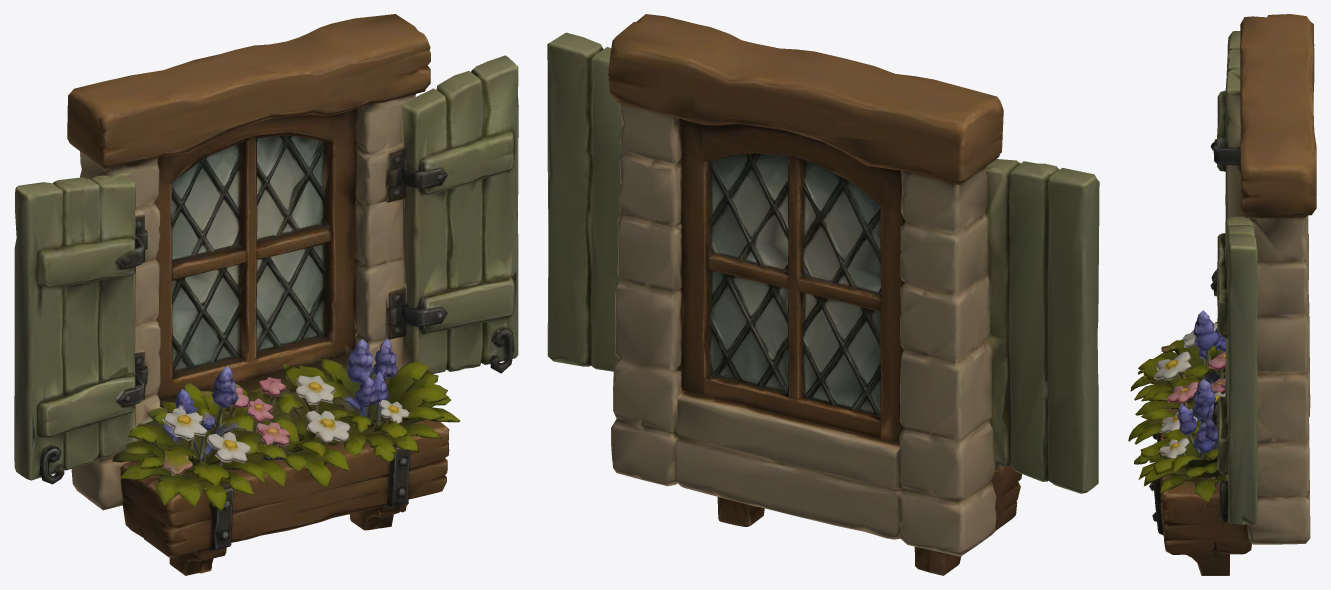
The model's file is mod_win_f.glb.
The picture shows the model from 3 angles, left to right: view 1: azimuth 30°, elevation 25°; view 2: azimuth 150°, elevation 25°; view 3: azimuth 270°, elevation 25°; orthographic projection. The views are drawn at different scales.
Visible parts, largest first — view 1: tripo_node_ed51ddac-e969-4782-837f-66e8b0e133ff; view 2: tripo_node_ed51ddac-e969-4782-837f-66e8b0e133ff; view 3: tripo_node_ed51ddac-e969-4782-837f-66e8b0e133ff.
Boxes of the visible parts, x1,y1,x2,y2 form: tripo_node_ed51ddac-e969-4782-837f-66e8b0e133ff: [14, 14, 518, 575]; tripo_node_ed51ddac-e969-4782-837f-66e8b0e133ff: [547, 14, 1099, 575]; tripo_node_ed51ddac-e969-4782-837f-66e8b0e133ff: [1128, 14, 1316, 575].
Size of the model in its own units: 0.9822 by 0.8791 by 0.3414.
1 material, 1 textured.
